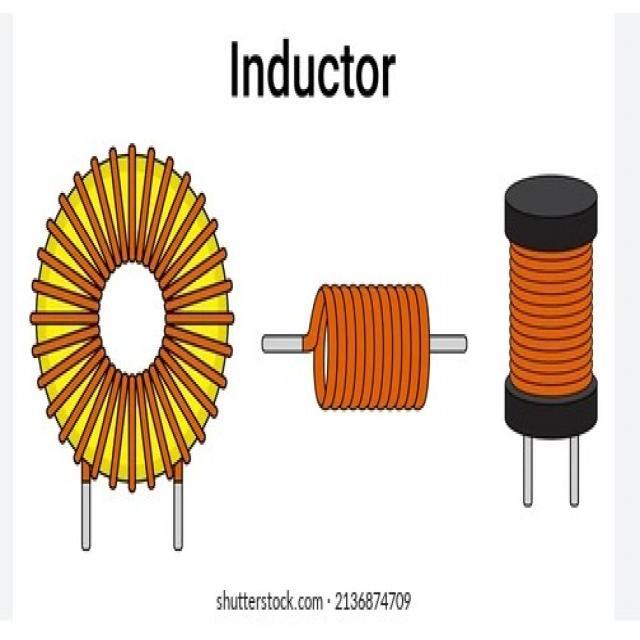Inductor: (30, 145, 234, 550), (505, 175, 598, 507), (261, 285, 468, 409)
